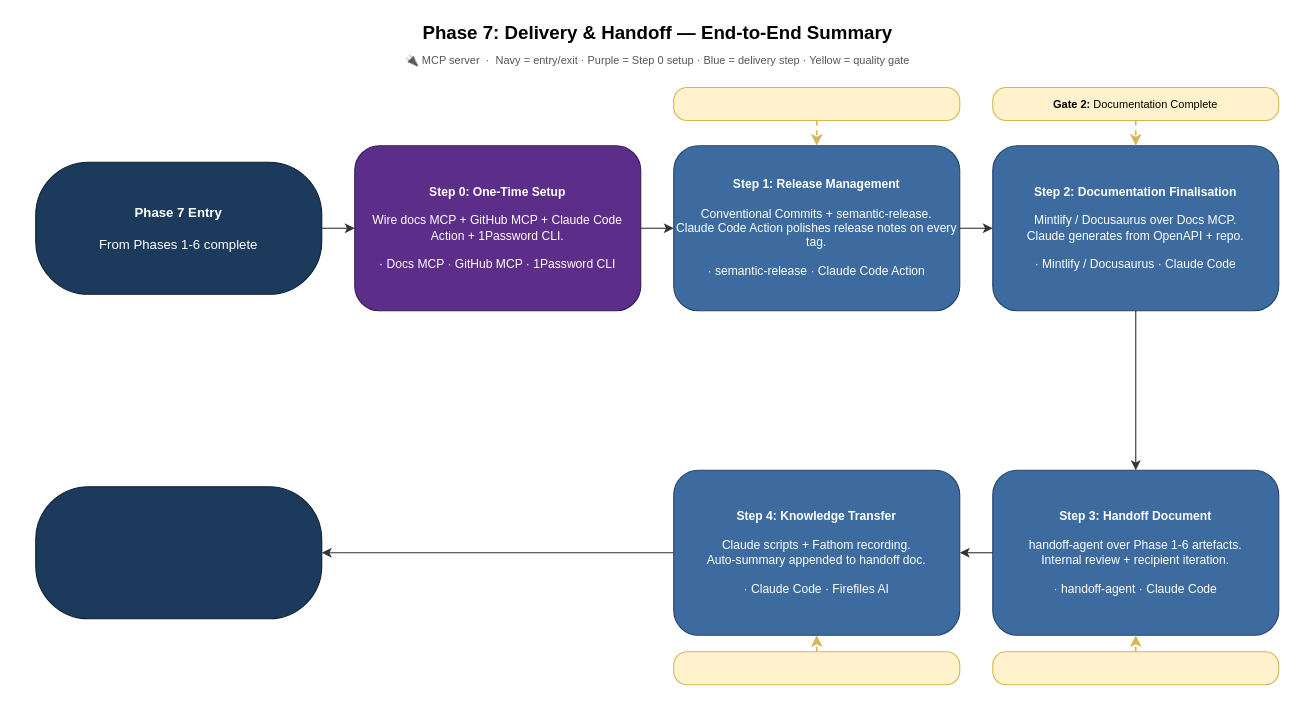
Image size: 1313x704. Some labels were removed from this diagram. The shapes that lost their labels are listed below. From the top down, each one's box as (x1, y1, x2, y2) in pixels, then its label:
(673, 86, 960, 120): Gate 1: Release Automation Operational
(35, 486, 322, 619): Engagement Concluded Recipient owns the system
(673, 651, 960, 685): Gate 4: Handoff Execution
(992, 651, 1279, 685): Gate 3: Handoff Package Ready
